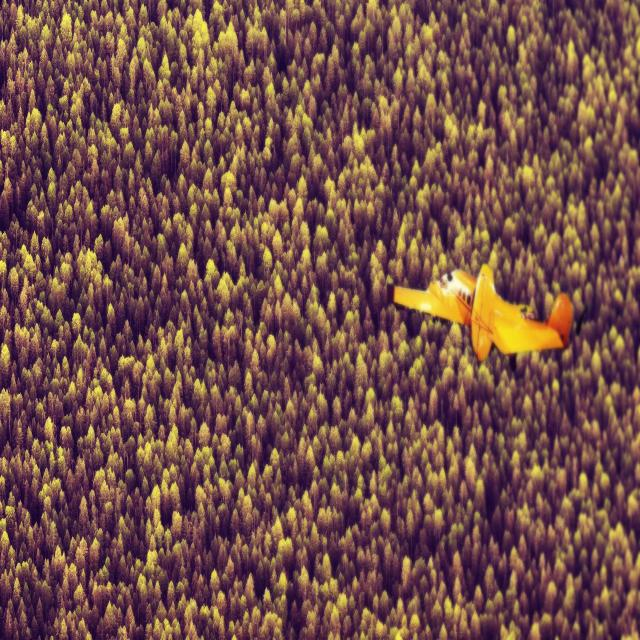airplane: (386, 262, 573, 363)
